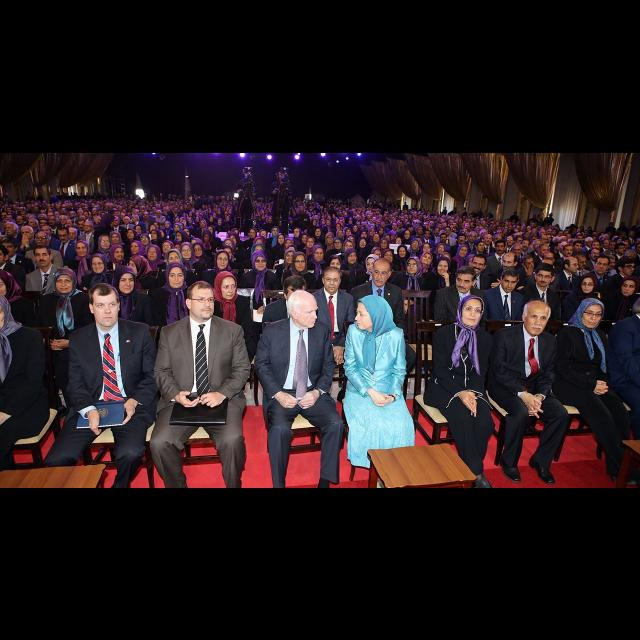head: (88, 284, 122, 328), (287, 288, 319, 328), (354, 294, 388, 330), (186, 280, 214, 320), (522, 300, 550, 334), (458, 294, 484, 326), (580, 298, 604, 328), (283, 275, 307, 303), (215, 270, 237, 300), (115, 264, 135, 294), (372, 256, 392, 286), (54, 267, 76, 293), (455, 266, 477, 292), (534, 262, 556, 286), (166, 262, 186, 288), (322, 266, 342, 292), (500, 268, 520, 292), (33, 245, 53, 267), (128, 254, 148, 276), (0, 234, 18, 256), (0, 293, 12, 324), (166, 248, 184, 268), (593, 254, 611, 274), (617, 256, 635, 276), (620, 276, 638, 296), (91, 252, 107, 274), (471, 253, 487, 274), (436, 256, 452, 276), (502, 251, 518, 271), (0, 271, 12, 297), (216, 248, 230, 270), (562, 255, 580, 272), (406, 255, 422, 273), (252, 250, 266, 270), (293, 251, 307, 271), (34, 230, 50, 246), (328, 254, 342, 272), (366, 254, 379, 272), (76, 241, 90, 257), (110, 244, 124, 260), (521, 253, 535, 269), (0, 243, 10, 264), (540, 257, 554, 271), (148, 244, 160, 260), (98, 234, 110, 248), (421, 251, 433, 265), (280, 176, 288, 186), (242, 168, 250, 176)
person: (28, 265, 100, 423), (260, 272, 326, 428), (350, 255, 422, 397), (192, 267, 256, 411), (92, 262, 156, 386), (304, 265, 358, 407), (432, 262, 488, 378), (18, 244, 72, 348), (151, 262, 205, 361), (482, 264, 530, 368), (517, 260, 563, 348), (70, 252, 120, 332), (0, 267, 34, 376), (16, 230, 66, 304), (160, 247, 202, 331), (237, 248, 285, 316), (347, 253, 398, 315), (392, 253, 434, 324), (481, 248, 525, 314), (316, 256, 358, 324), (422, 254, 464, 320), (580, 255, 618, 327), (126, 254, 162, 328), (202, 248, 244, 310), (61, 239, 99, 307), (1, 234, 36, 306), (454, 252, 494, 312), (280, 249, 322, 305), (550, 256, 588, 314), (0, 242, 26, 322), (232, 165, 258, 237), (412, 251, 442, 313), (106, 242, 132, 306), (139, 242, 167, 298), (90, 230, 118, 284), (272, 166, 292, 238), (534, 254, 560, 302), (516, 250, 540, 294)
